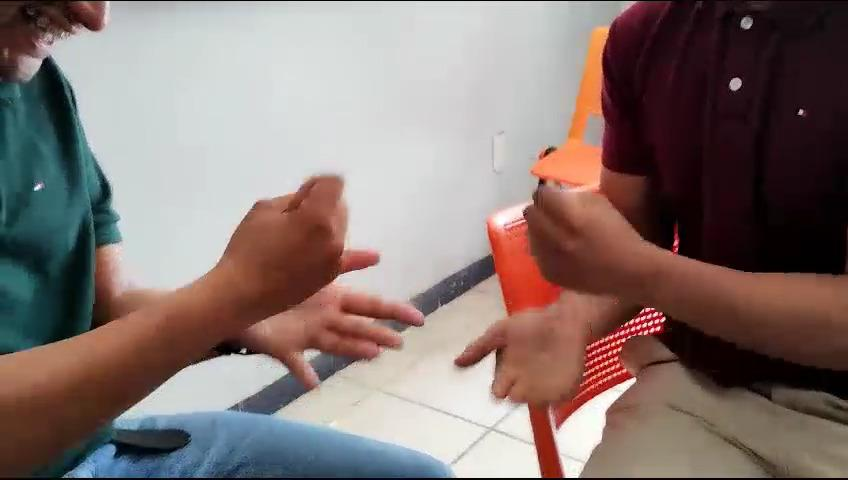Stone: (158, 142, 380, 330), (478, 154, 649, 312)
